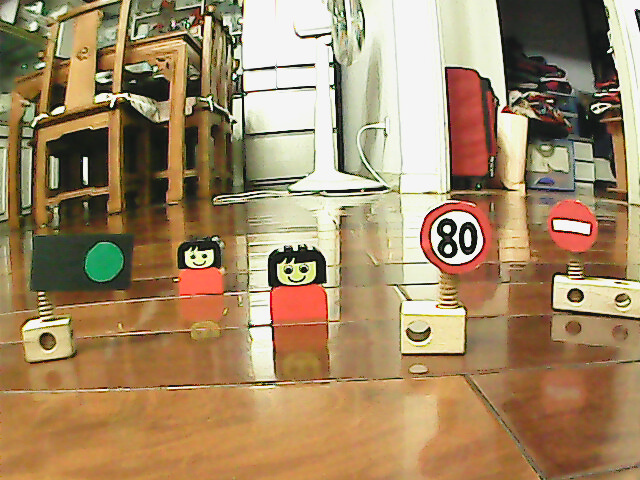Green Traffic Light: (77, 234, 130, 291)
Person: (265, 242, 332, 328), (173, 231, 229, 297)
Speed Limit 80: (417, 198, 496, 278)
Stop Sign: (545, 197, 601, 255)
